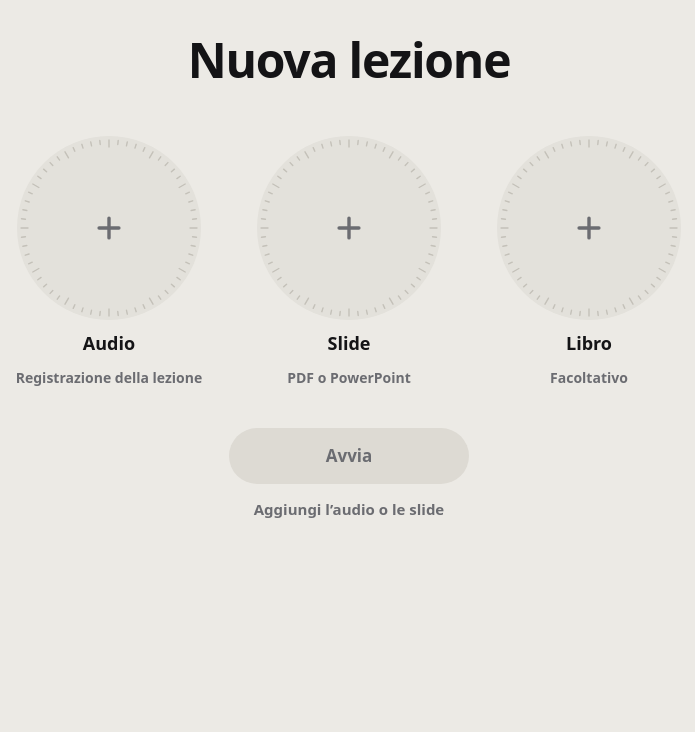
Scenario: LessonComposer › suggests a quieter start in the afternoon
Later steps or results of the test are not shown.
Click the button named "Aggiungi audio" at [109, 228], box top-left (17, 136), bottom-right (201, 320)
(page scrolled)
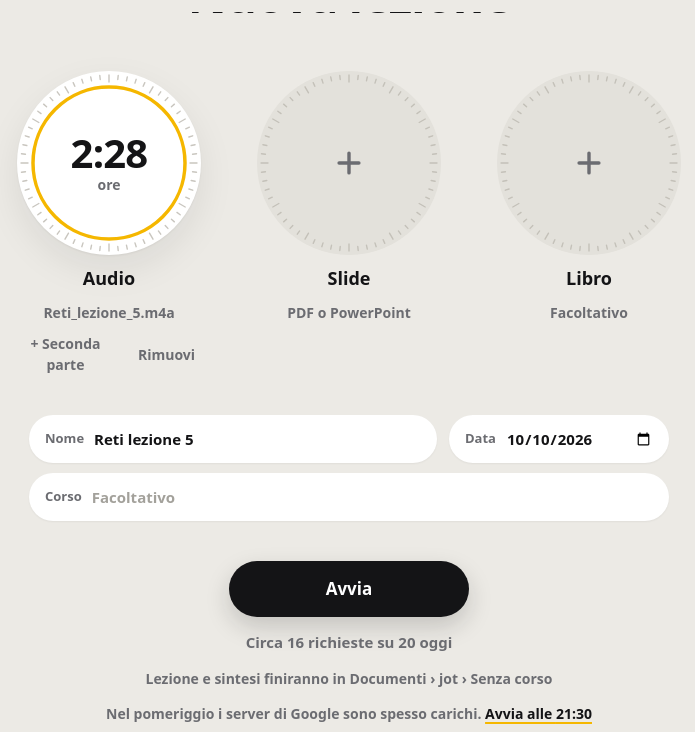
Expected: the text "spesso carichi" is shown, top-left (106, 704), bottom-right (481, 722)
